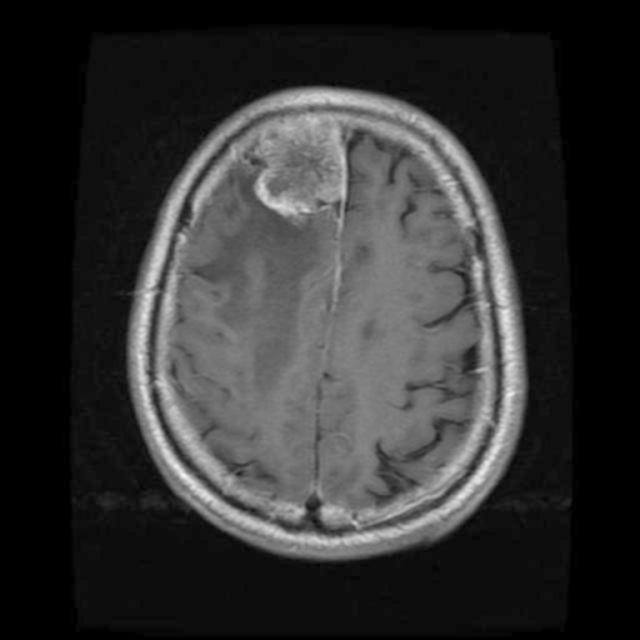meningioma tumor: (246, 105, 355, 236)
